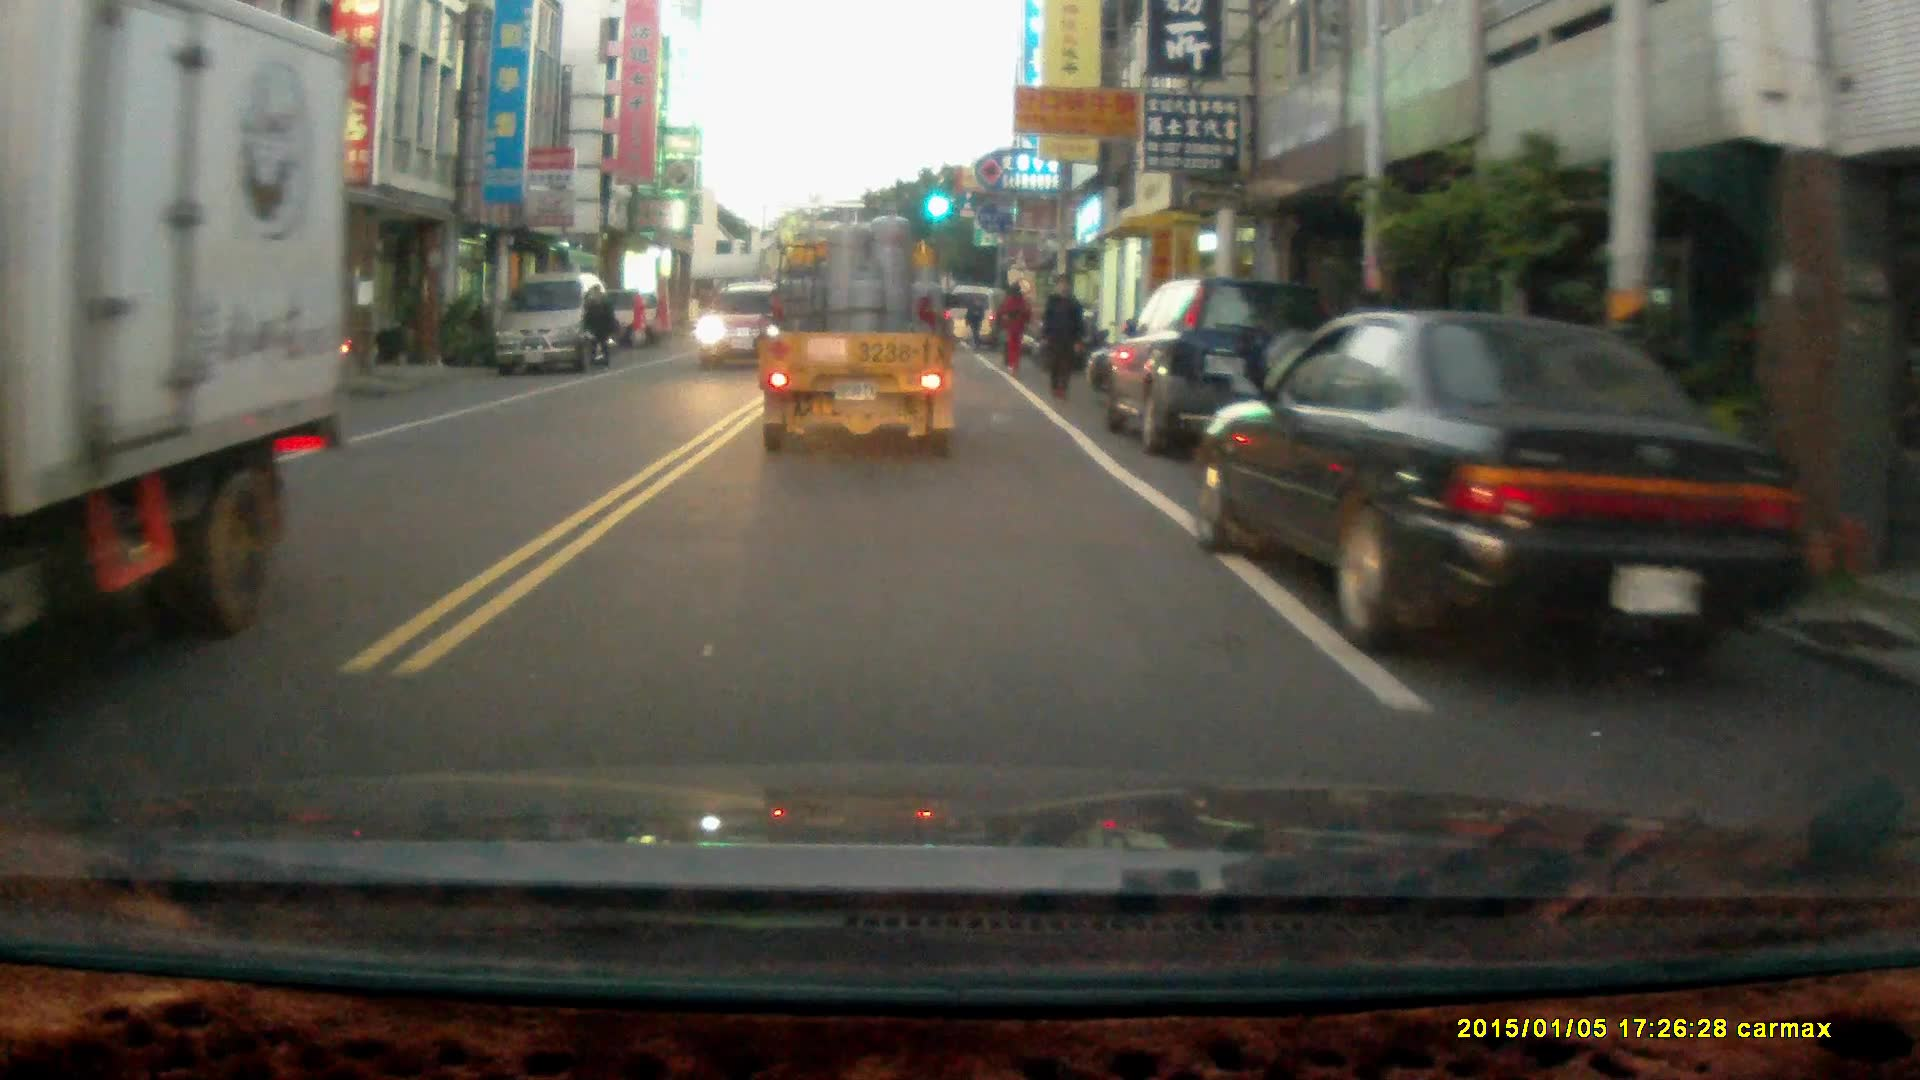pedestrian: (1035, 269, 1085, 399), (993, 277, 1030, 370), (579, 281, 615, 367), (965, 289, 985, 344)
vehicle: (1, 6, 344, 674), (1196, 306, 1798, 655), (754, 194, 962, 463), (1106, 274, 1336, 460), (494, 271, 612, 375), (692, 279, 777, 368)
